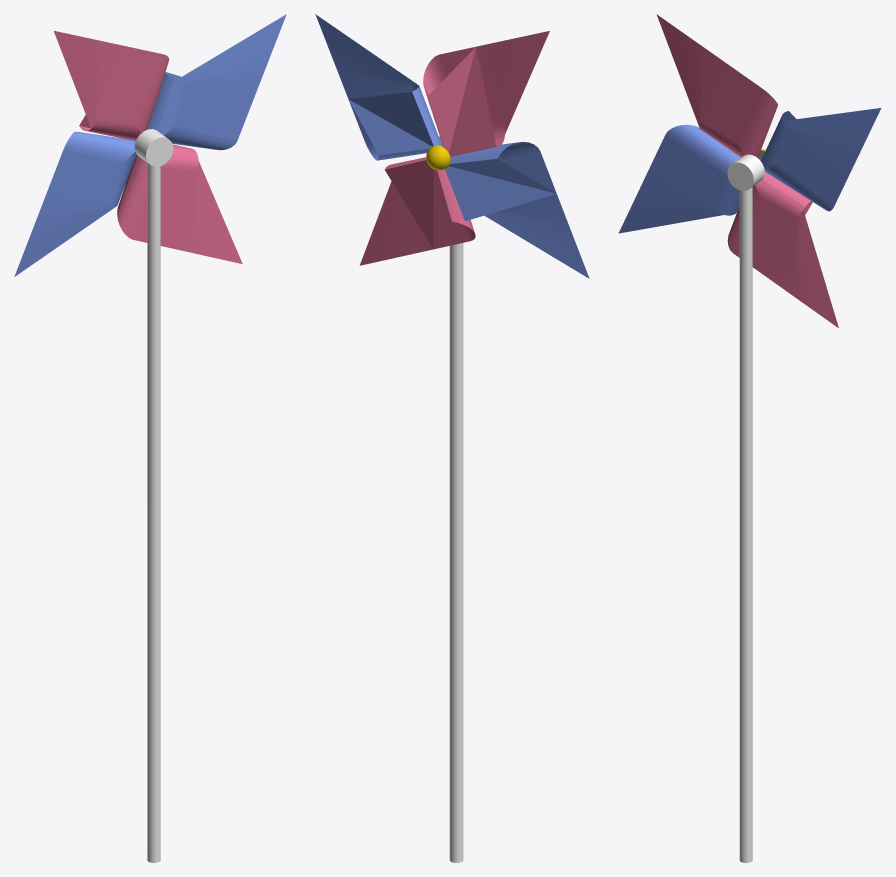
Rendered from virevent002.fbx.
3 renders of one model, left to right at view 1: azimuth 30°, elevation 25°; view 2: azimuth 150°, elevation 25°; view 3: azimuth 330°, elevation 25°, orthographic. The views are drawn at different scales.
Visible parts, largest first — view 1: pPlane6, pCylinder3; view 2: pPlane6, pCylinder3; view 3: pPlane6, pCylinder3.
Part boxes in pixels (bbox=[...]): pPlane6: bbox=[14, 14, 286, 276]; pCylinder3: bbox=[134, 129, 173, 862]; pPlane6: bbox=[315, 14, 589, 278]; pCylinder3: bbox=[439, 136, 463, 862]; pPlane6: bbox=[618, 14, 881, 328]; pCylinder3: bbox=[727, 154, 764, 862].
Size of the model in its own units: 1.39 by 4.13 by 0.2595.
